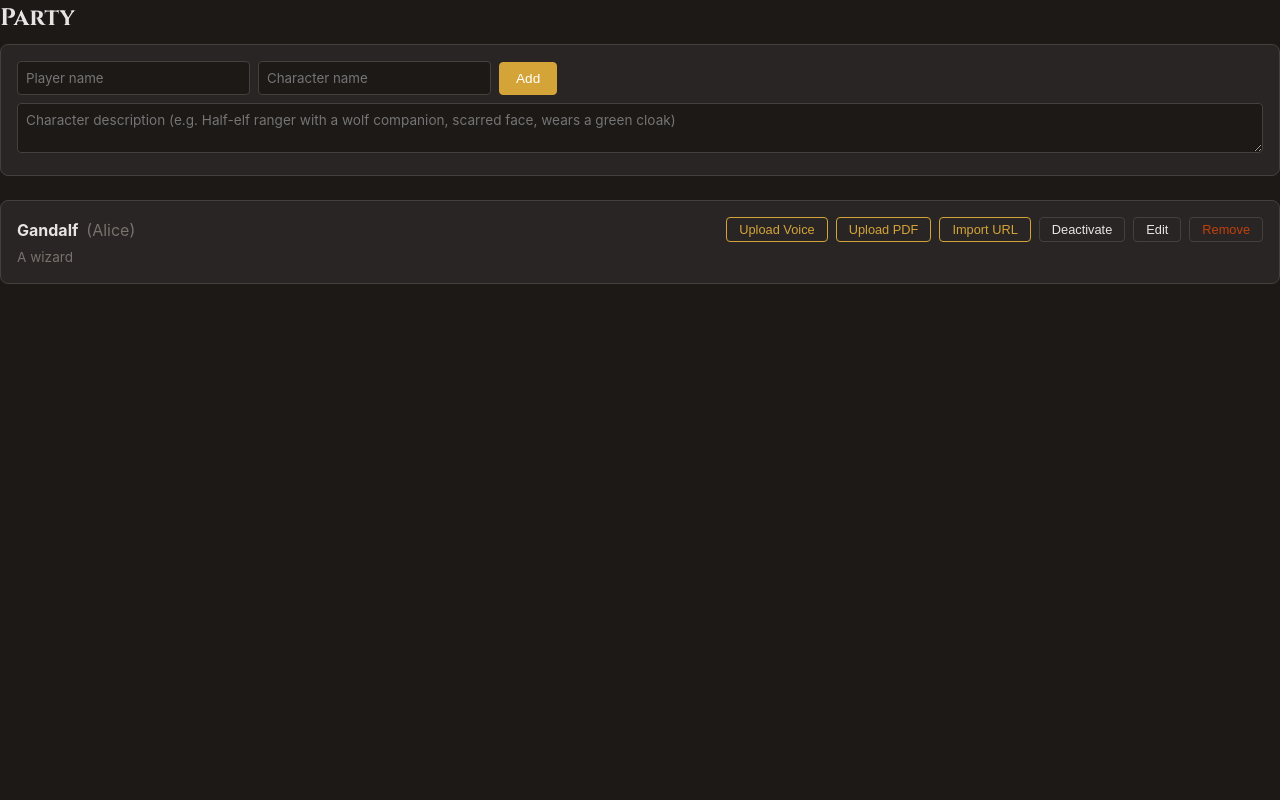
Test: RosterPage › shows confirm dialog when remove is clicked
This screenshot has width=1280, height=800.
Click the button "Remove".
click(1226, 230)  # box [1189, 217, 1263, 242]
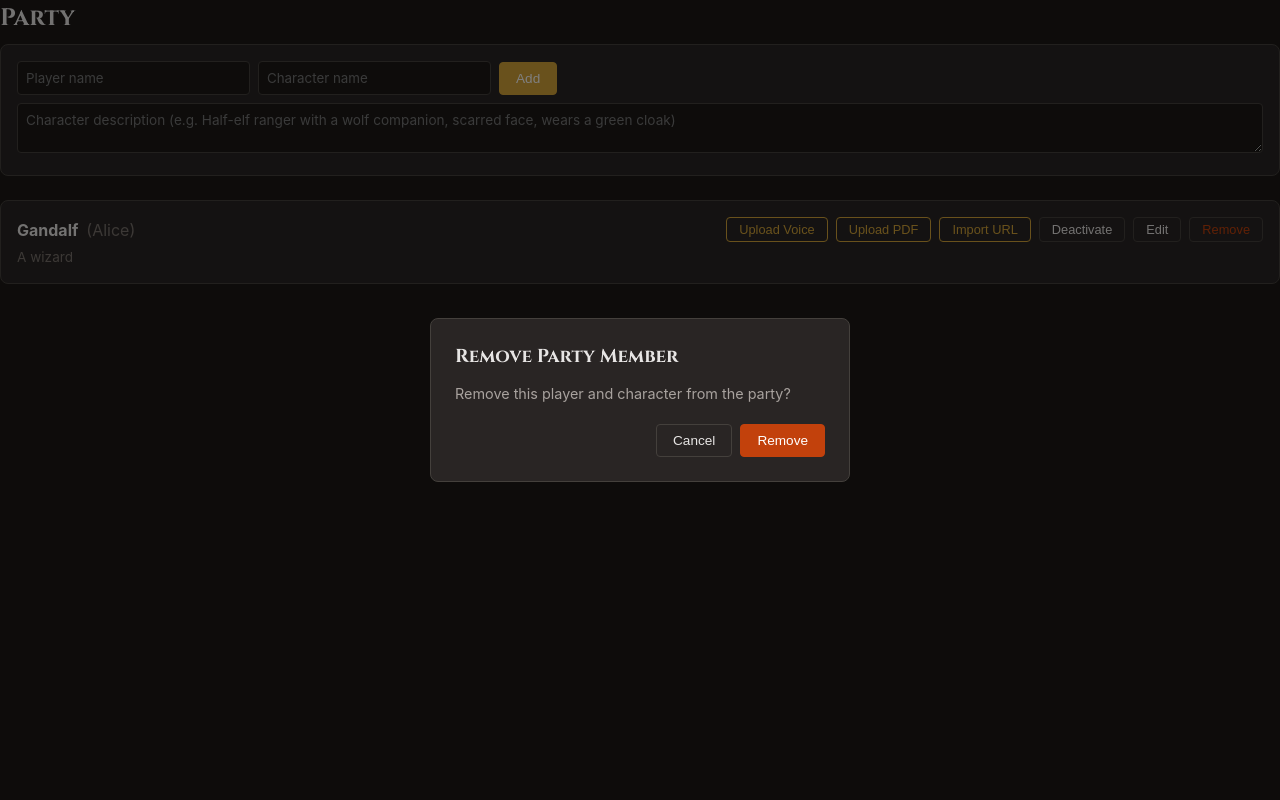
Now the heading "Remove Party Member" is shown, box [455, 344, 678, 369]
